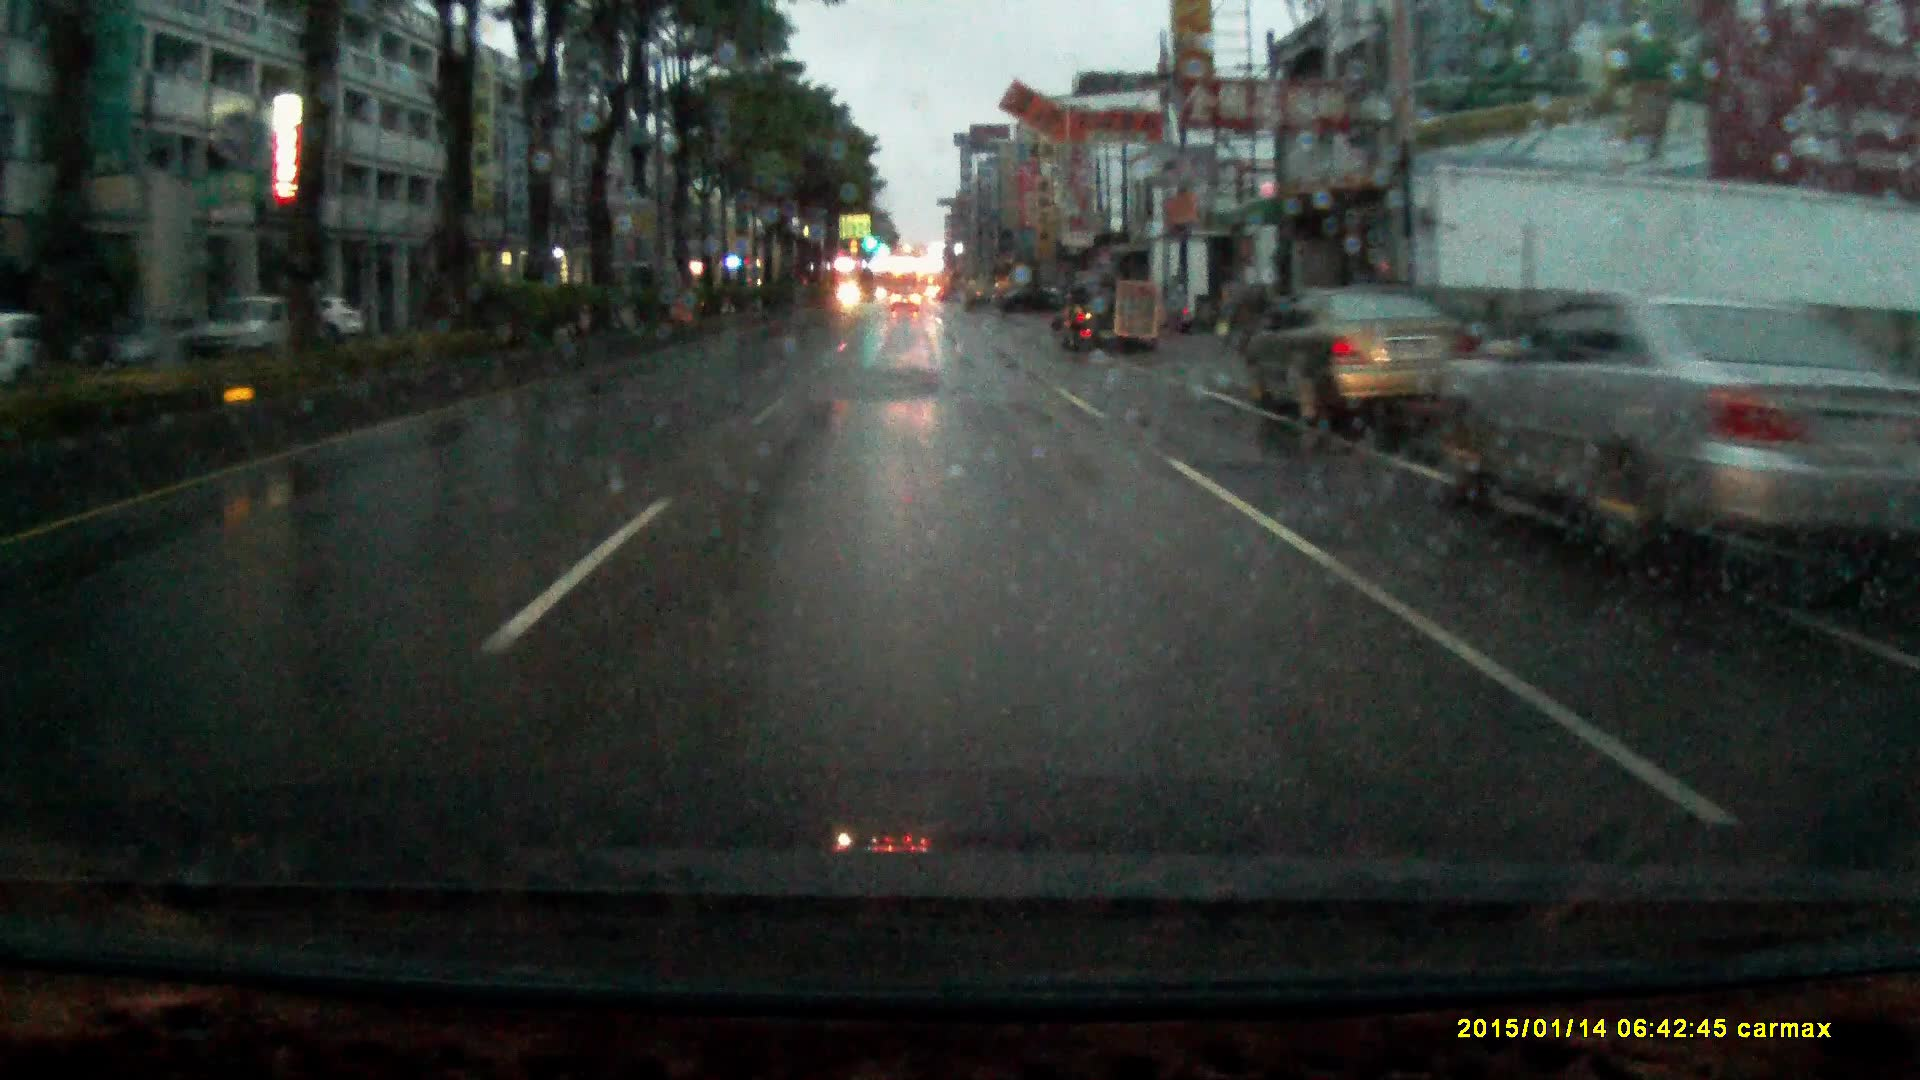vehicle: (1433, 294, 1822, 567), (1245, 280, 1477, 415), (189, 298, 332, 364), (1062, 270, 1153, 352), (890, 284, 920, 310)
